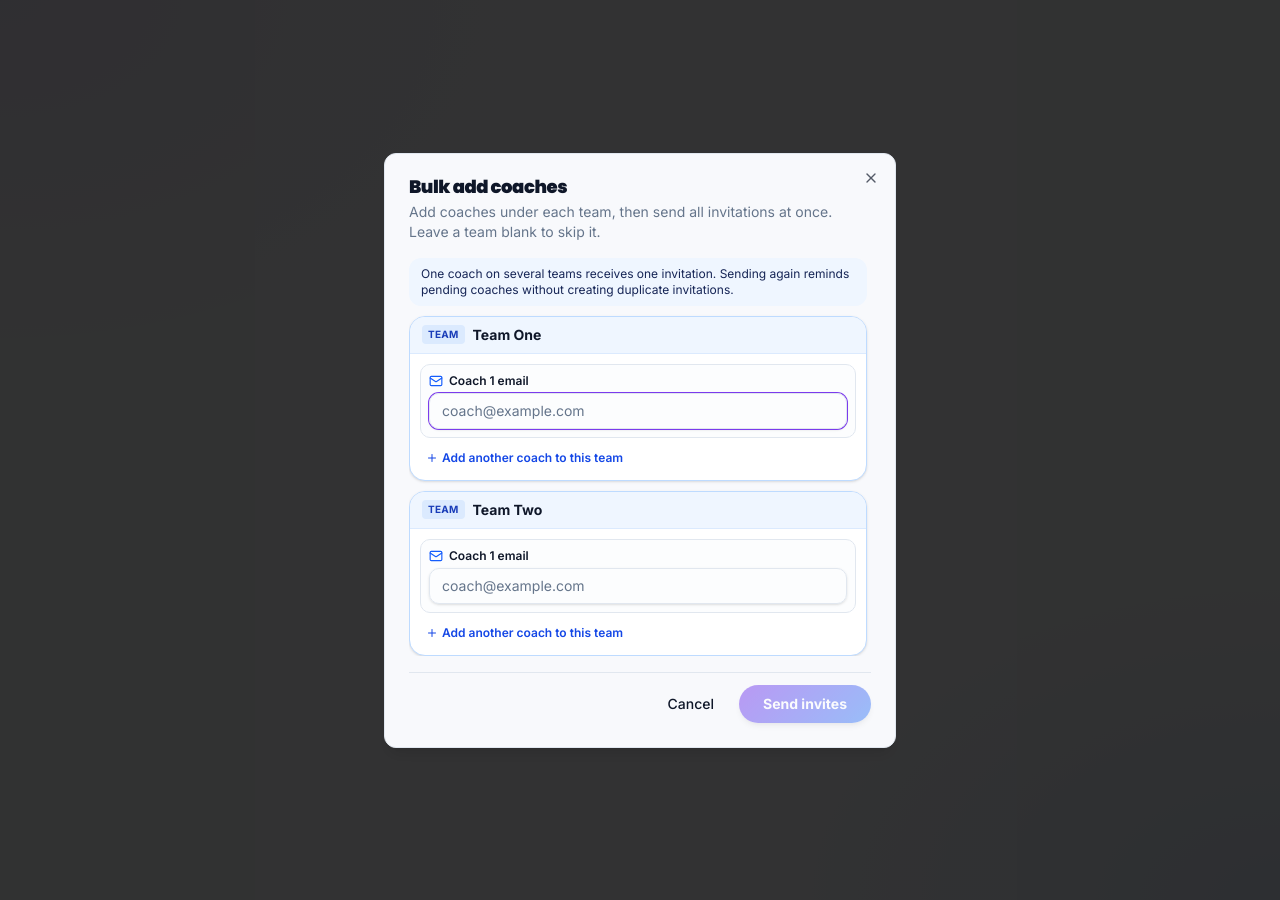
Test: bulk coach email reminders › separates each team and labels additional coaches within their own team
The image size is (1280, 900).
Expected: the field labelled "Coach 1 email" below "Team Two" is shown, left=429, top=568, right=847, bottom=604
Type "first@example.com" into the field labelled "Coach 1 email" below "Team One". click: (638, 410)
box: left=429, top=392, right=847, bottom=428
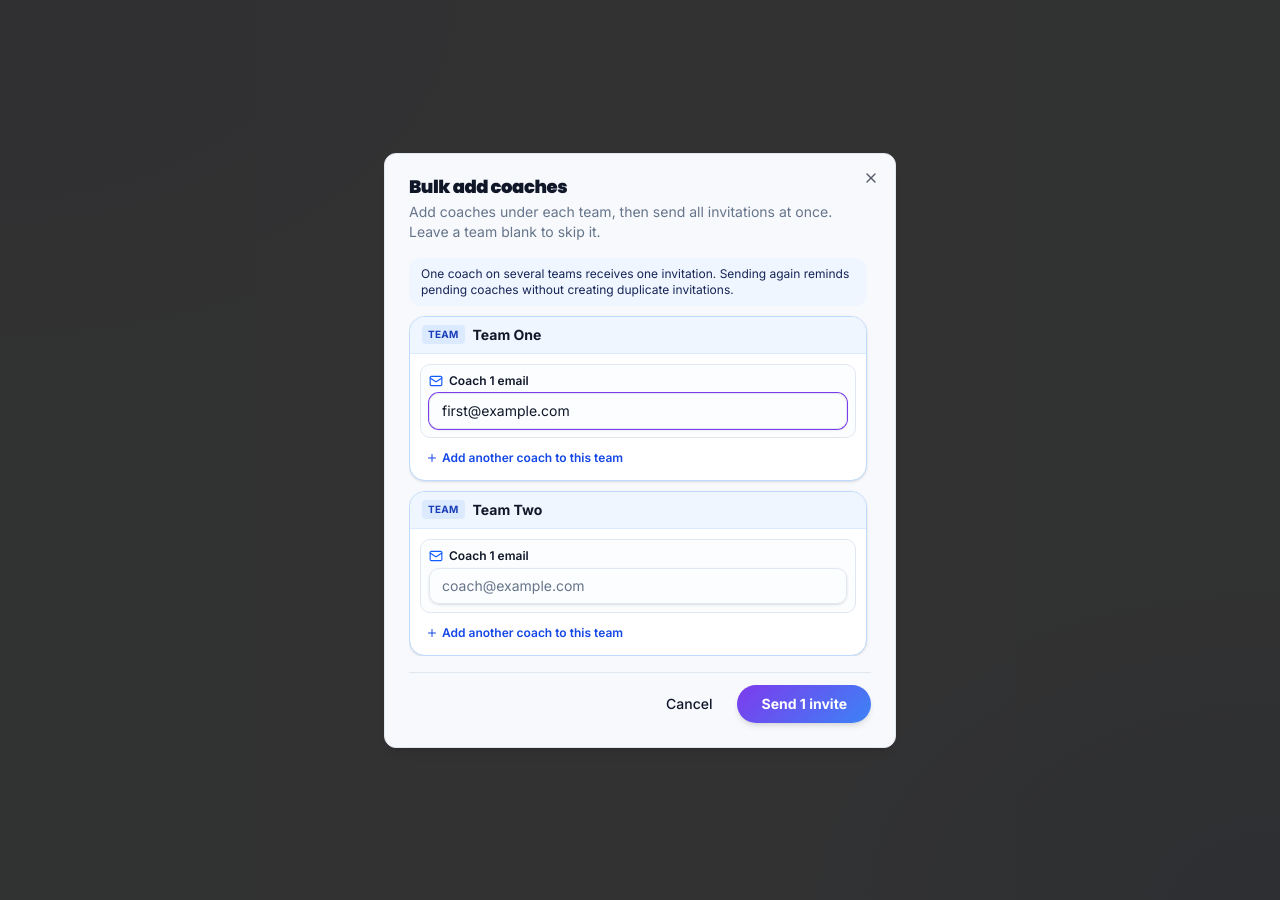
Click the button with test id "btn-bulk-coach-add-extra-one". click: (525, 458)
box: left=420, top=446, right=629, bottom=470
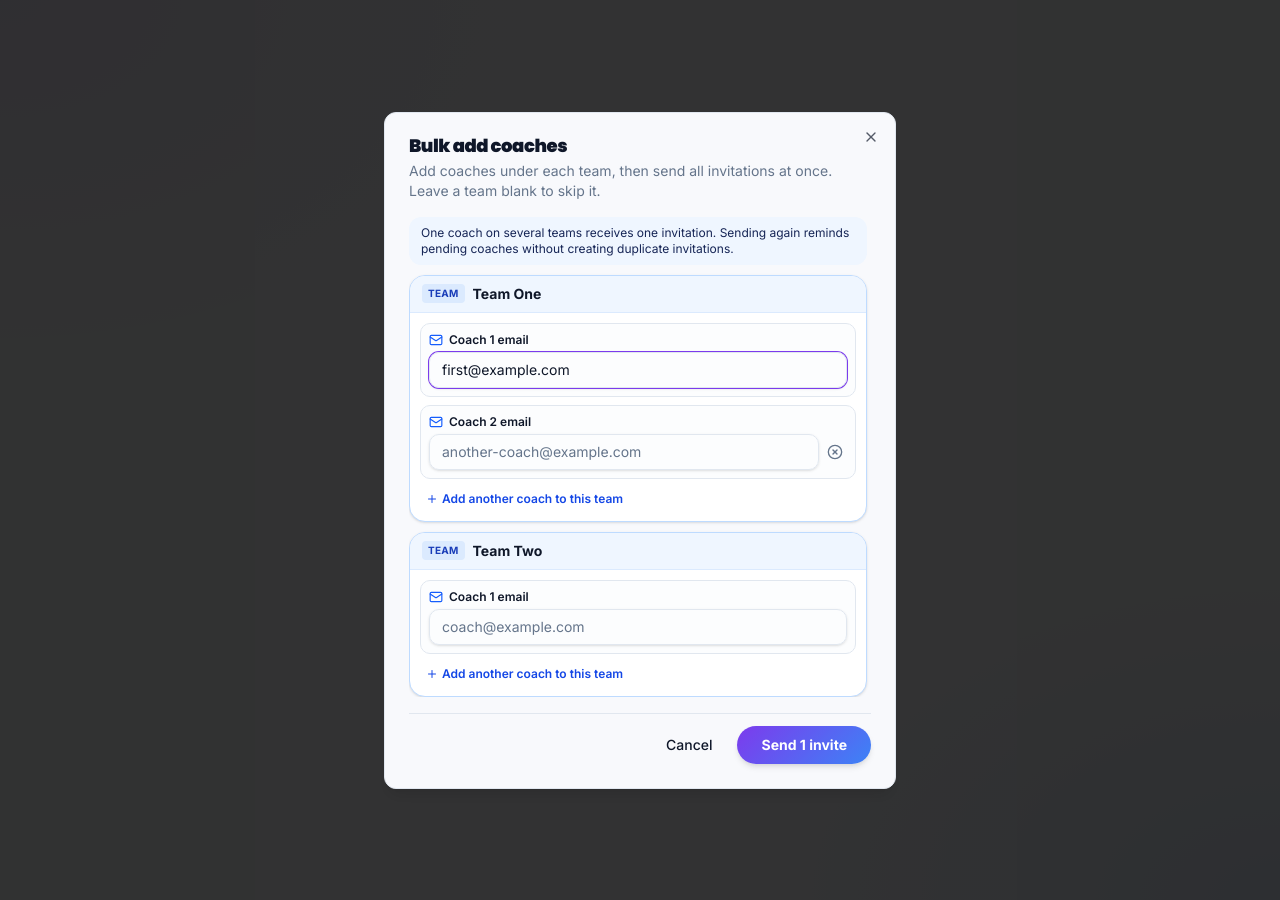
Type "second@example.com" into the field labelled "Coach 2 email". click: (624, 452)
box: left=429, top=434, right=819, bottom=470
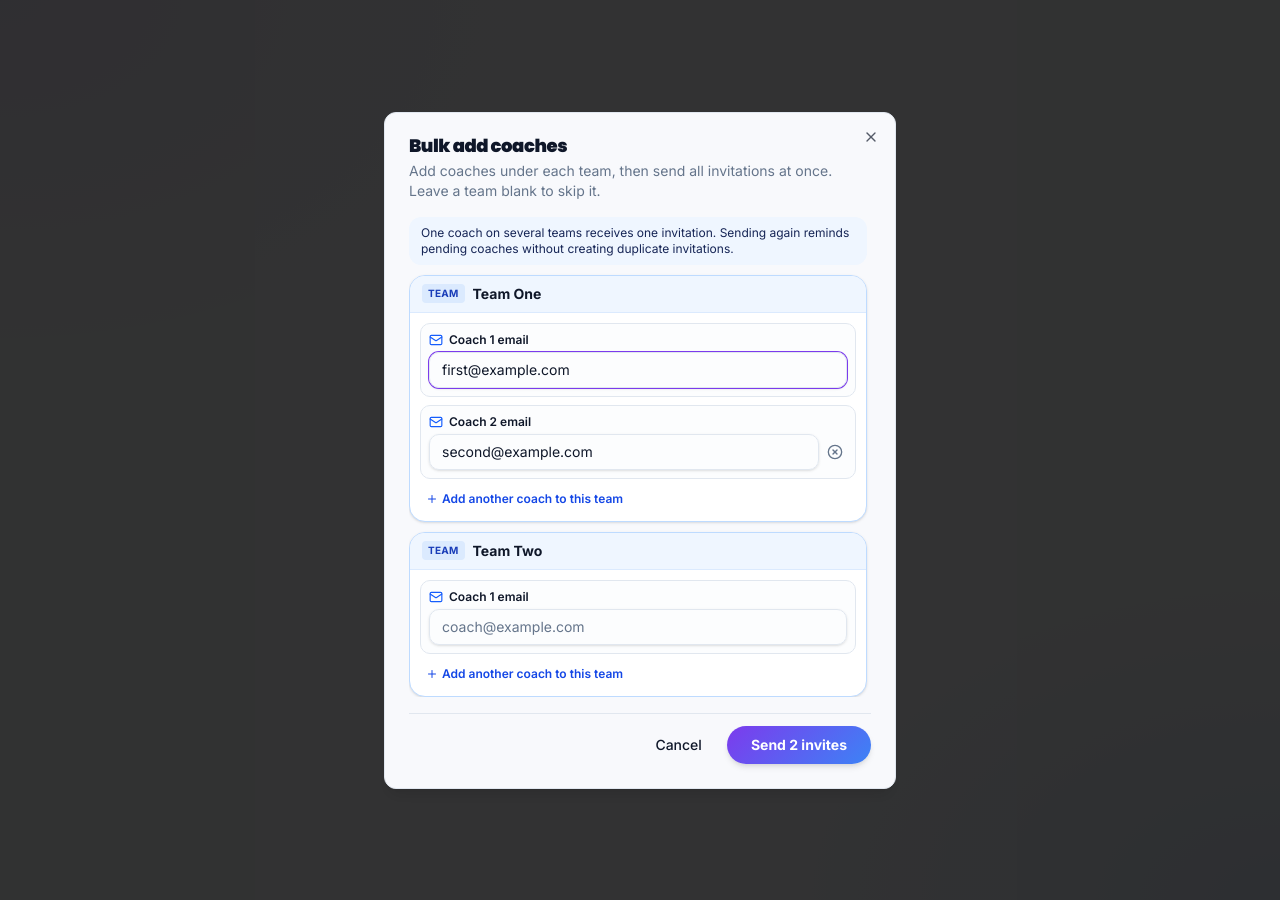
Click the button named "Remove coach 2 from Team One". click: (835, 452)
box: left=823, top=440, right=847, bottom=464
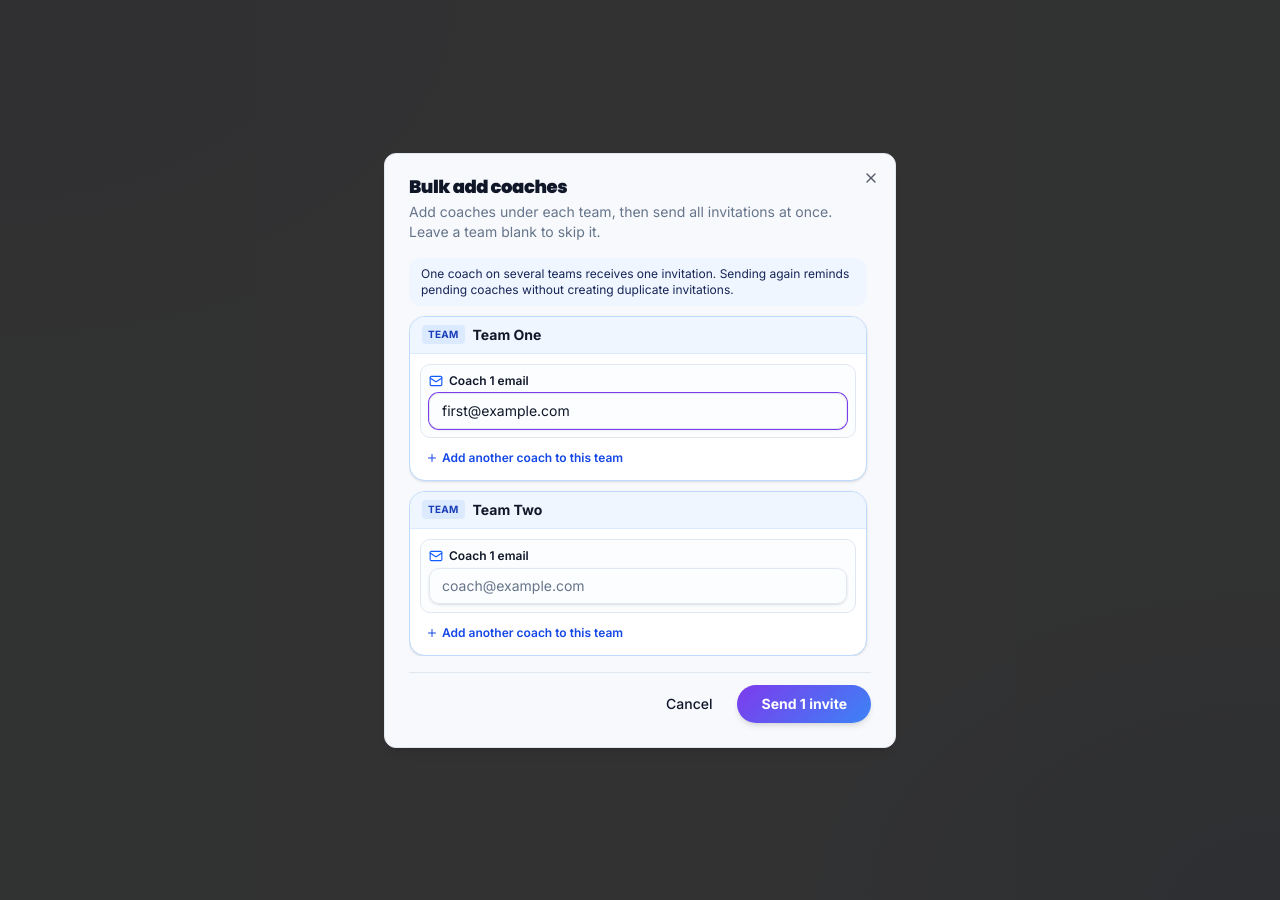
Expected: the field labelled "Coach 1 email" below "Team Two" is empty, left=429, top=568, right=847, bottom=604
Expected: the label labelled "Coach 2 email" is gone
